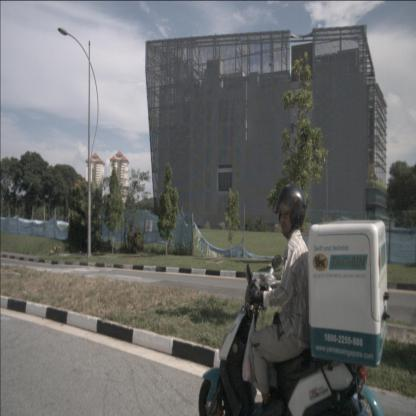vehicle-motorcycle: (198, 182, 389, 416)
